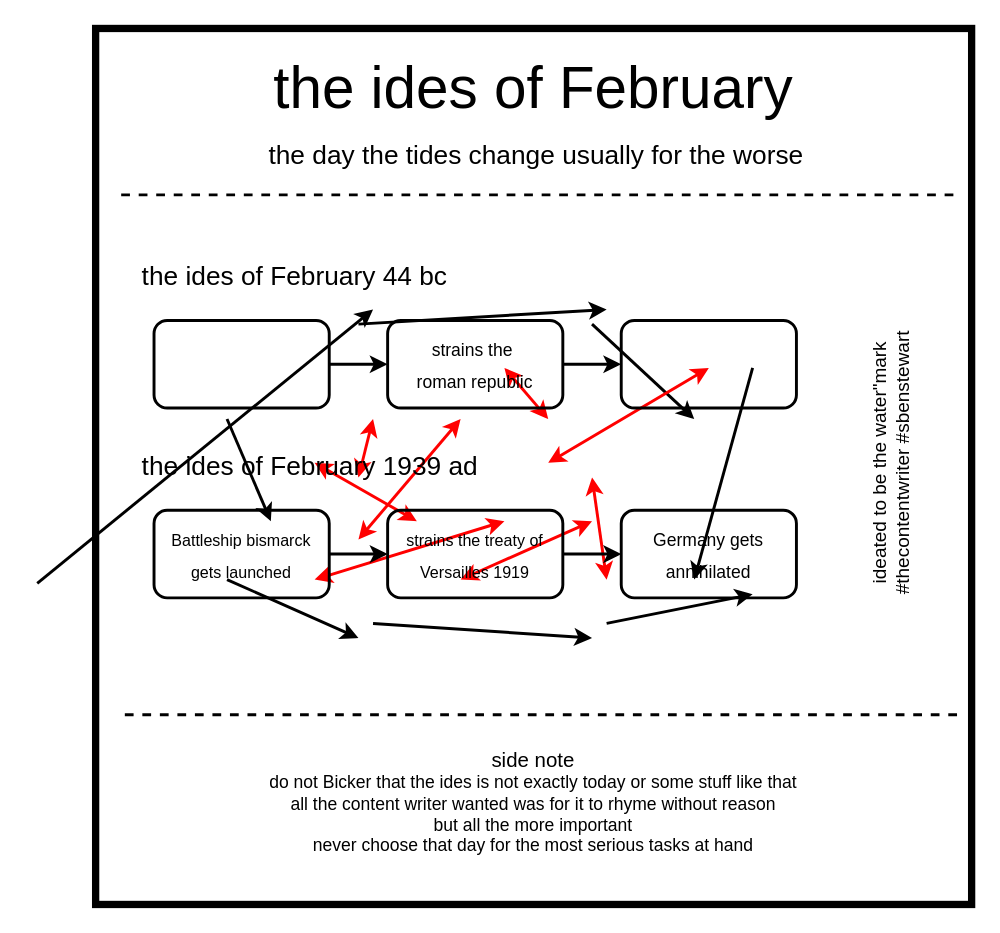
Image size: 1000x933. Some labels were removed from this diagram. Here are the shapes that lost their labels. From the top down, the centre of each, then its label:
At (241,363): "Anthony offers Caesar the crown".
At (708,363): "caesar gets killed".
